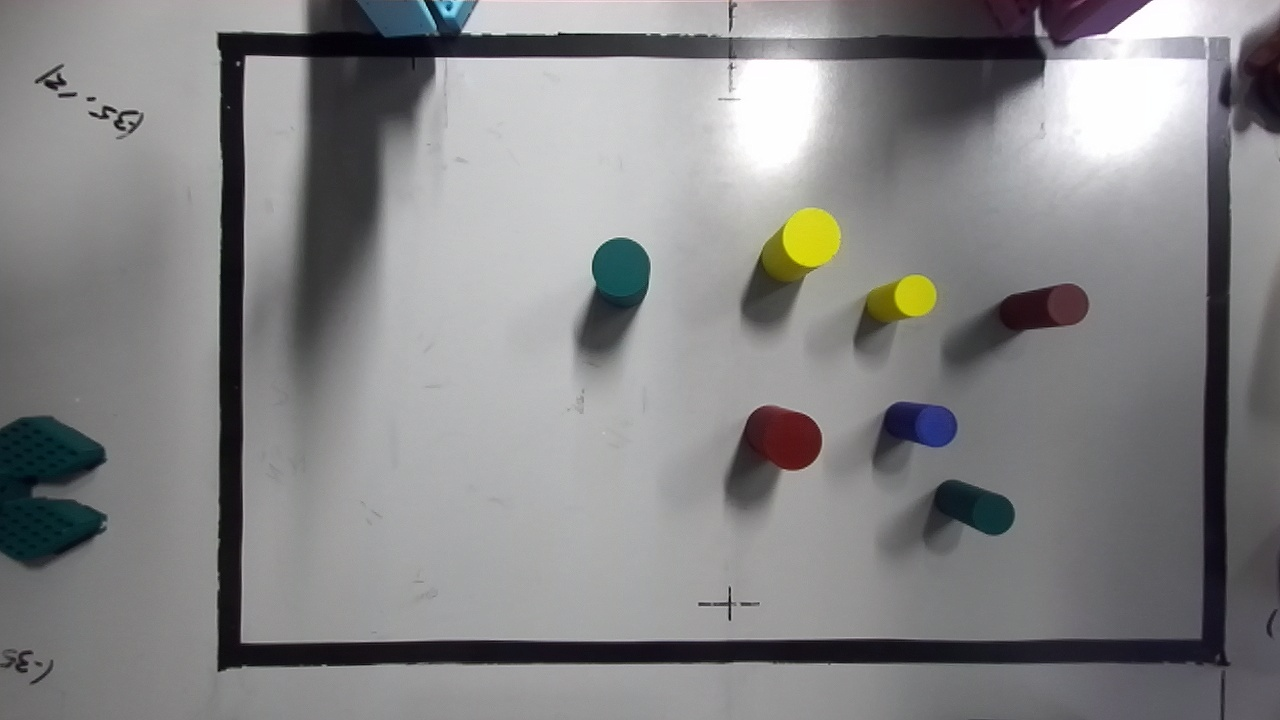cylinder: (760, 208, 840, 282), (744, 405, 821, 470), (933, 480, 1014, 534), (999, 283, 1088, 330), (592, 237, 650, 307), (866, 275, 936, 322), (883, 401, 956, 446)
